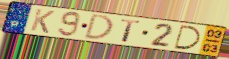2: (149, 23, 174, 49)
9: (55, 11, 81, 38)
D: (83, 13, 115, 41), (173, 24, 202, 51)
K: (29, 8, 56, 35)
T: (119, 18, 142, 44)
